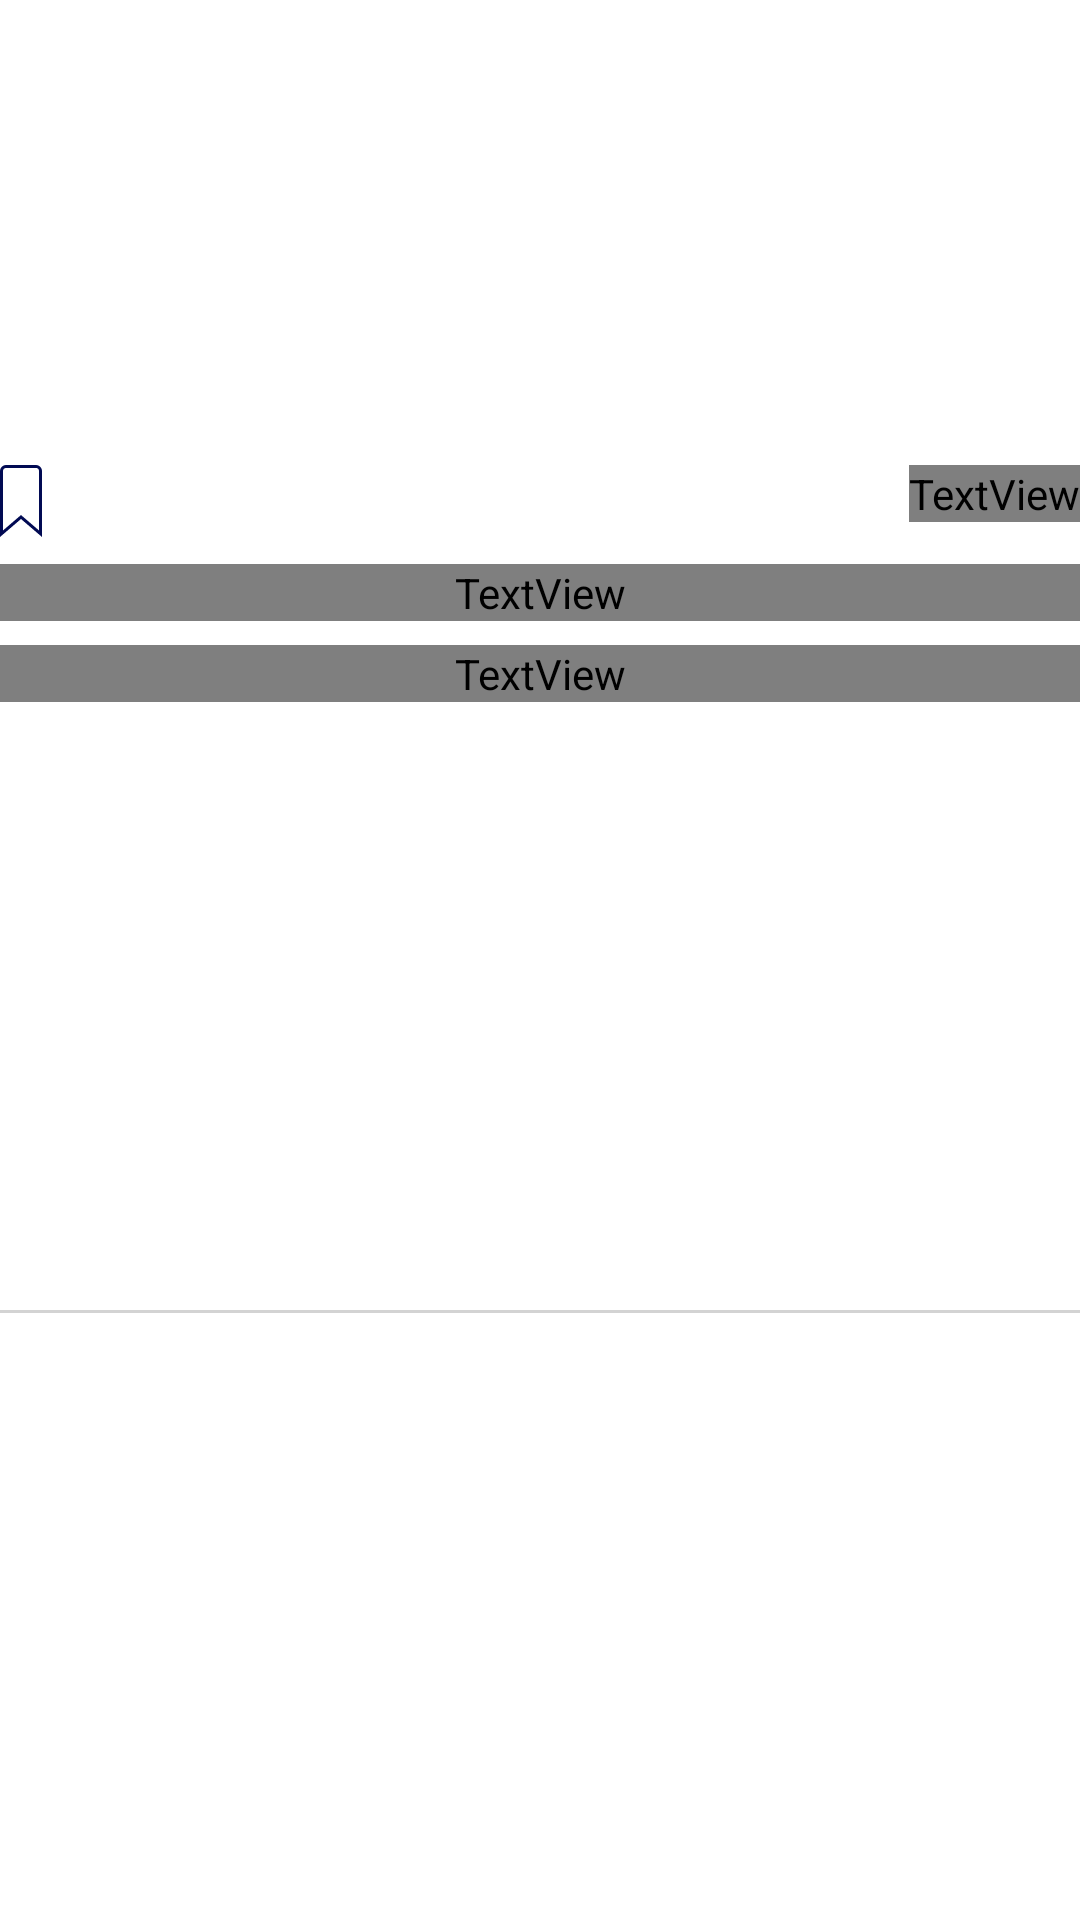

Icon bounding boxes for this 1080×1920 phone screenshot, format (x1, y1, x2, y2):
saved: (0, 465, 42, 537)
